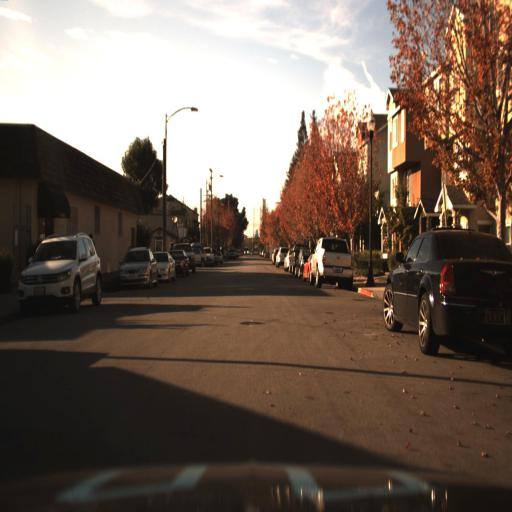car: (381, 225, 512, 358), (15, 231, 102, 312), (310, 234, 354, 291), (116, 244, 158, 287), (153, 246, 177, 285), (190, 238, 208, 273), (171, 250, 190, 280)
